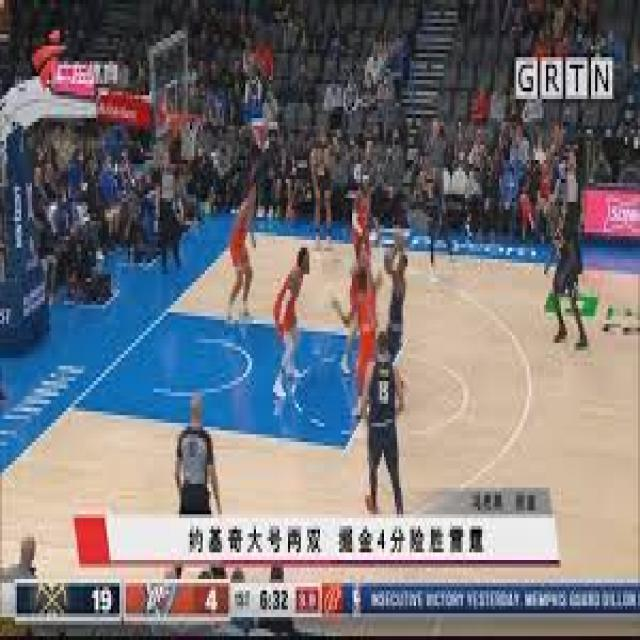rim: (392, 228, 408, 252)
